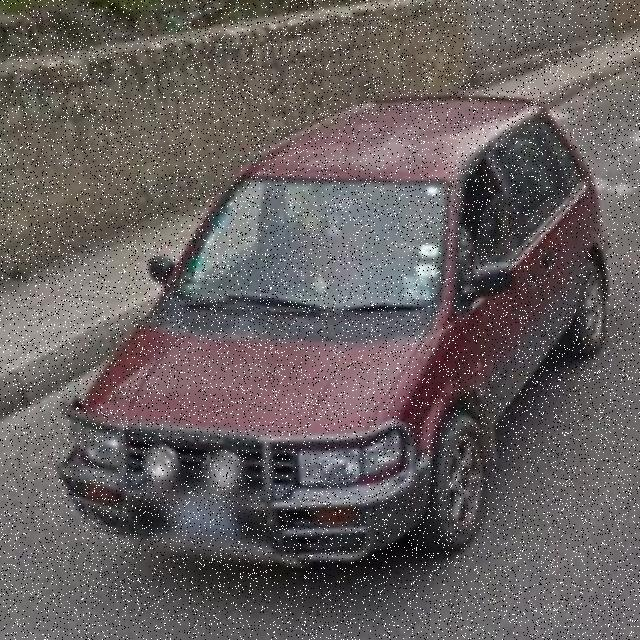cars: (60, 84, 609, 580)
